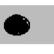correct: (3, 13, 32, 39)
